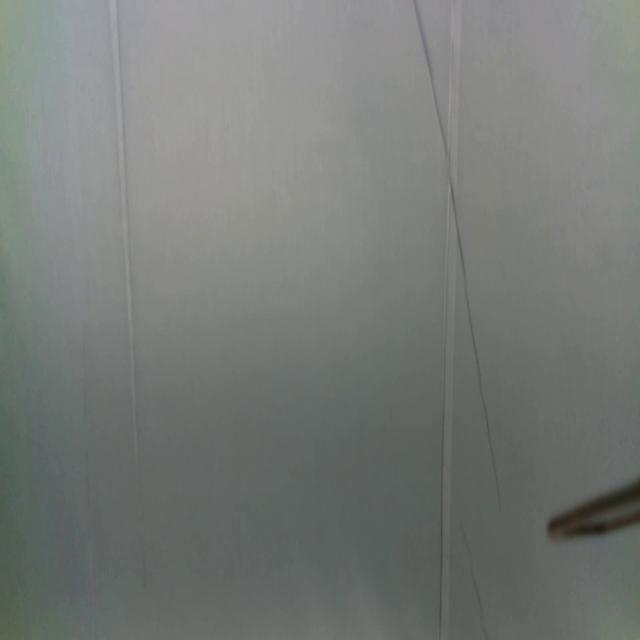crease: (412, 0, 502, 505), (436, 0, 464, 640), (107, 0, 142, 469)
